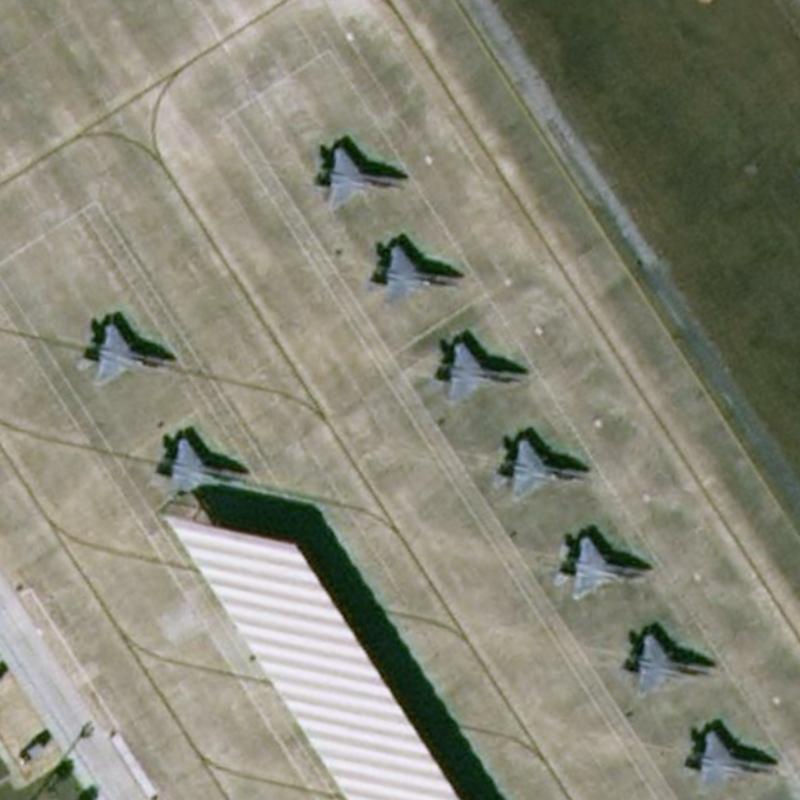A13: (70, 315, 173, 394), (617, 622, 713, 701), (677, 723, 781, 793), (488, 431, 586, 505), (363, 235, 458, 309), (548, 530, 642, 604), (311, 142, 406, 213), (433, 337, 525, 408), (154, 432, 247, 498)
